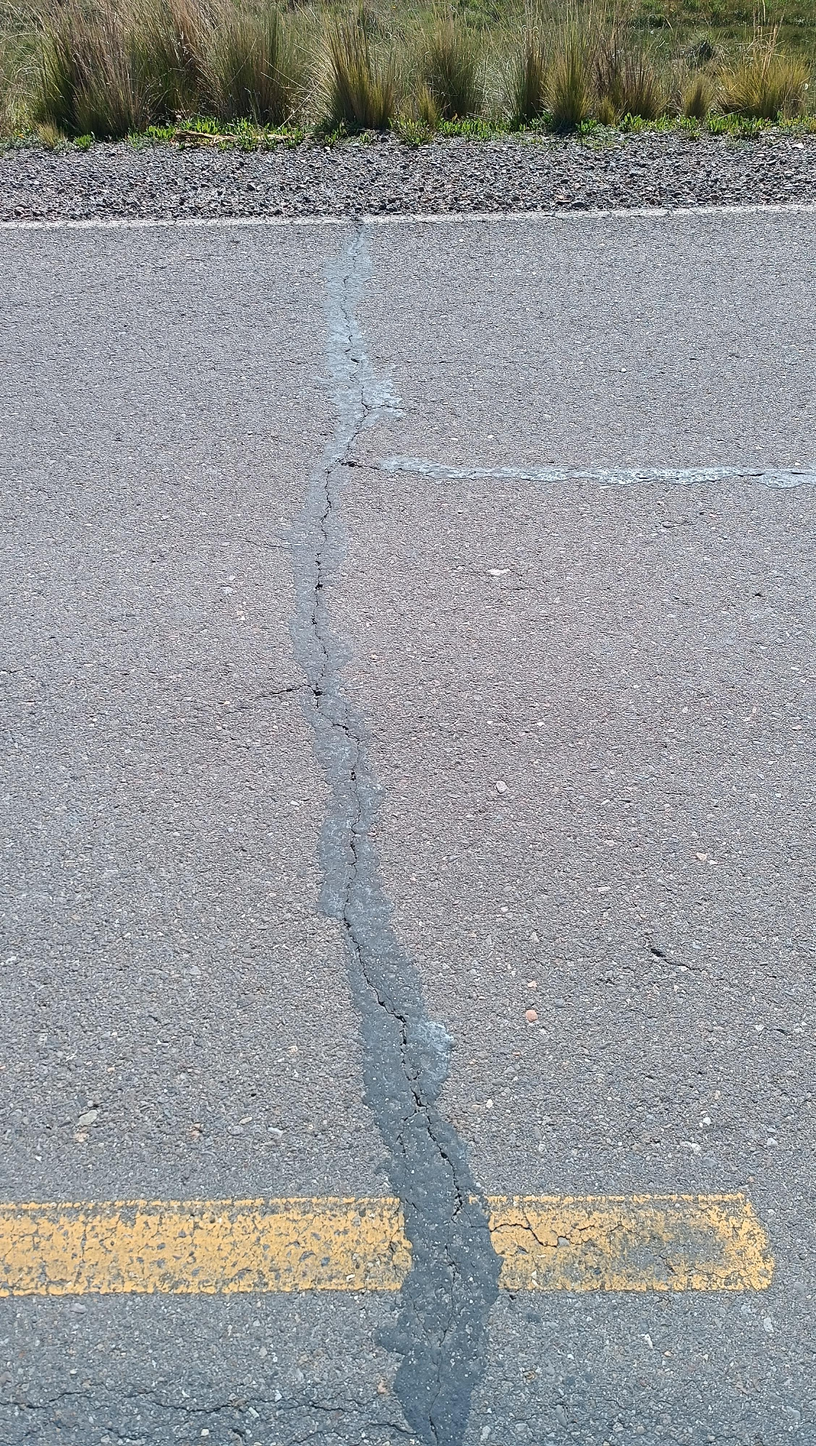GRIETA: (343, 865, 407, 1045), (422, 1112, 463, 1216), (320, 464, 341, 548)
PARCHE: (293, 232, 500, 1446), (379, 457, 816, 489)
